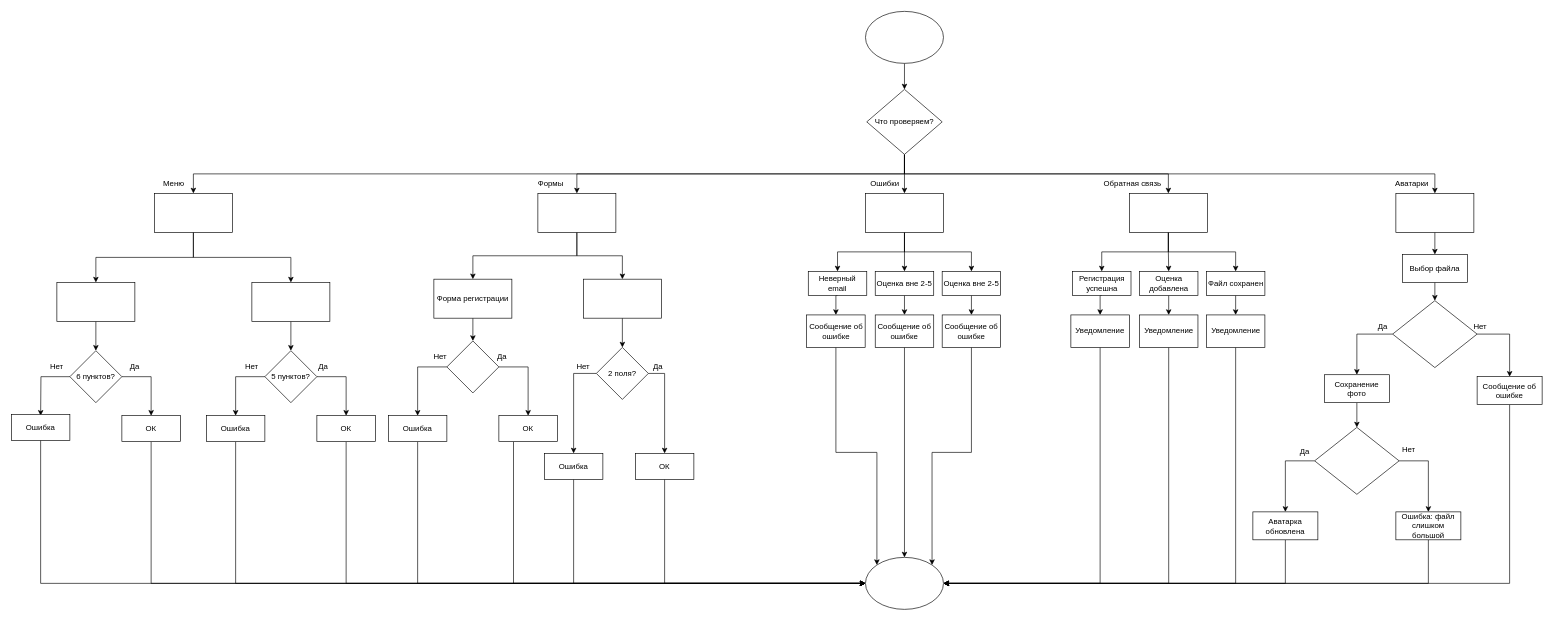
The diagram is 1554 pixels wide and 621 high, and some of its shapes have lost their labels. Each missing label, with the centre of its shape:
"6 полей?" belongs at (472,366).
"Конец теста" belongs at (904,583).
"Меню преподавателя" belongs at (95,301).
"Меню ученика" belongs at (290,301).
"Начало теста юзабилити" belongs at (904,37).
"Проверка загрузки фото" belongs at (1434,212).
"Проверка полей ввода" belongs at (576,212).
"Проверка сообщений об ошибках" belongs at (904,212).
"Проверка структуры навигации" belongs at (193,212).
"Проверка уведомлений" belongs at (1168,212).
"Размер <= 50 MB?" belongs at (1356,460).
"Форма оценки" belongs at (622,298).
"Формат разрешен?" belongs at (1434,334).
